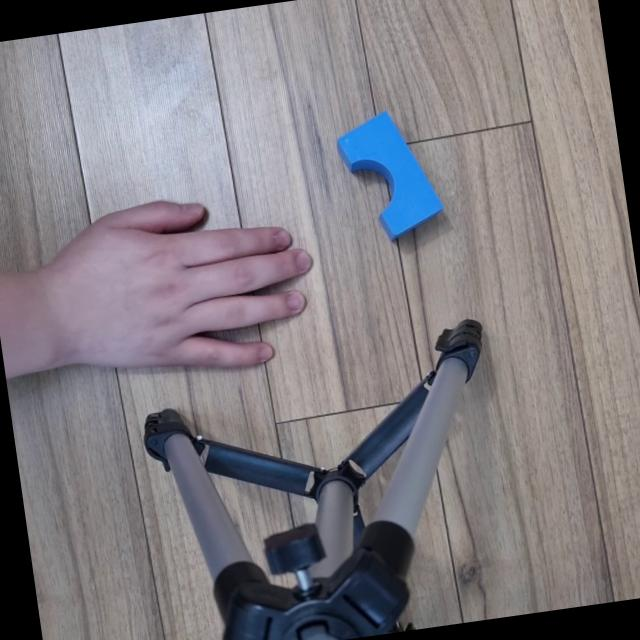block: (328, 102, 447, 255)
hand: (21, 154, 328, 398)
